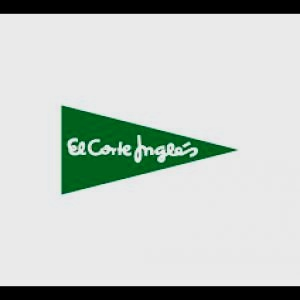corte_ingles: (211, 54, 269, 161)
